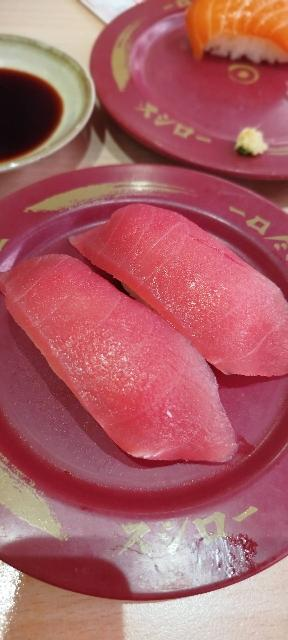janred: (0, 164, 288, 567), (97, 7, 288, 185)
